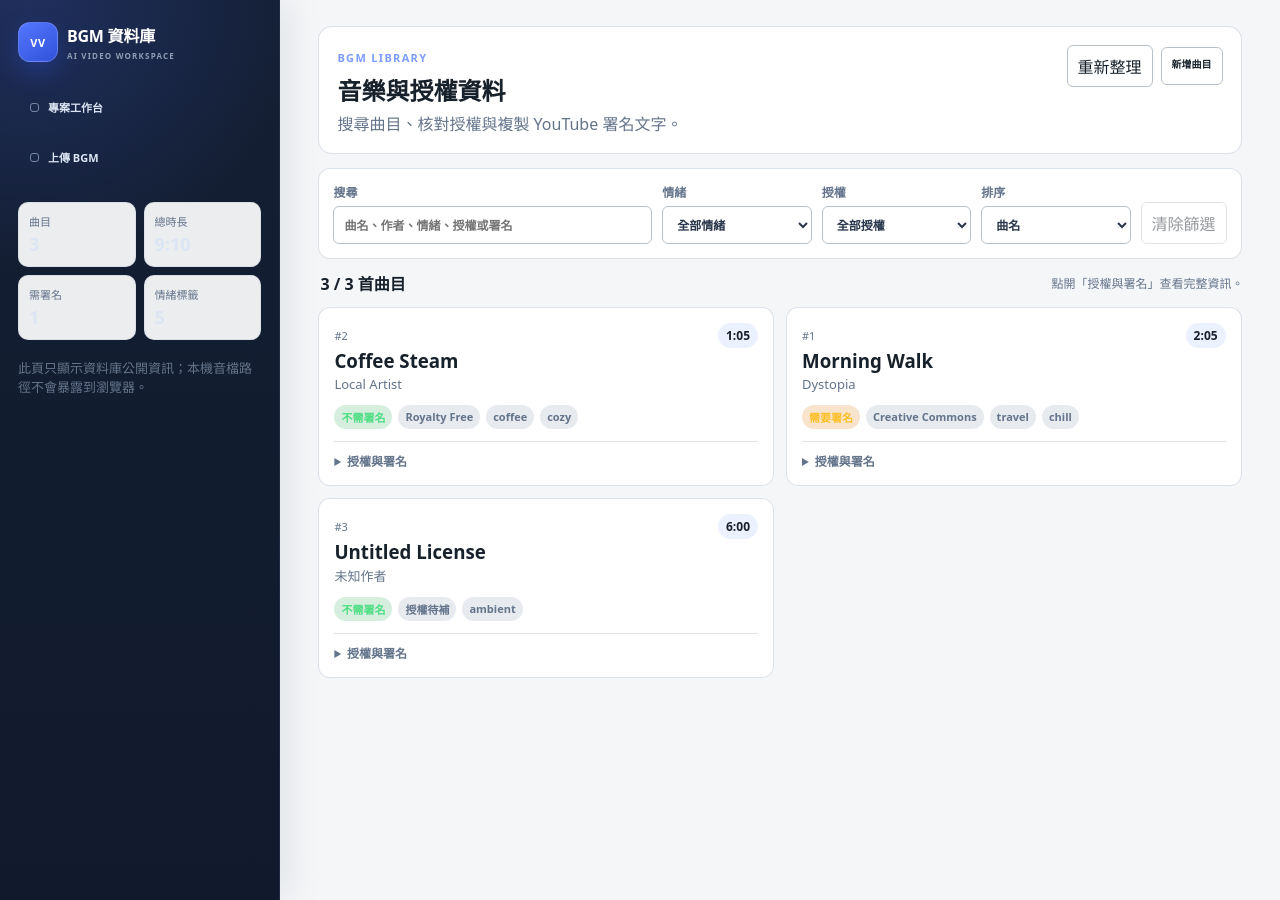
BgmLibraryPage › loads tracks and supports combined search and filters
Check: the heading "Morning Walk" is shown, box [802,348,933,373]
Check: the text "3 / 3 首曲目" is shown, box [320,271,406,295]
Type "coffee" into the search field named "搜尋 BGM" at (493, 225), box [333,206,652,244]
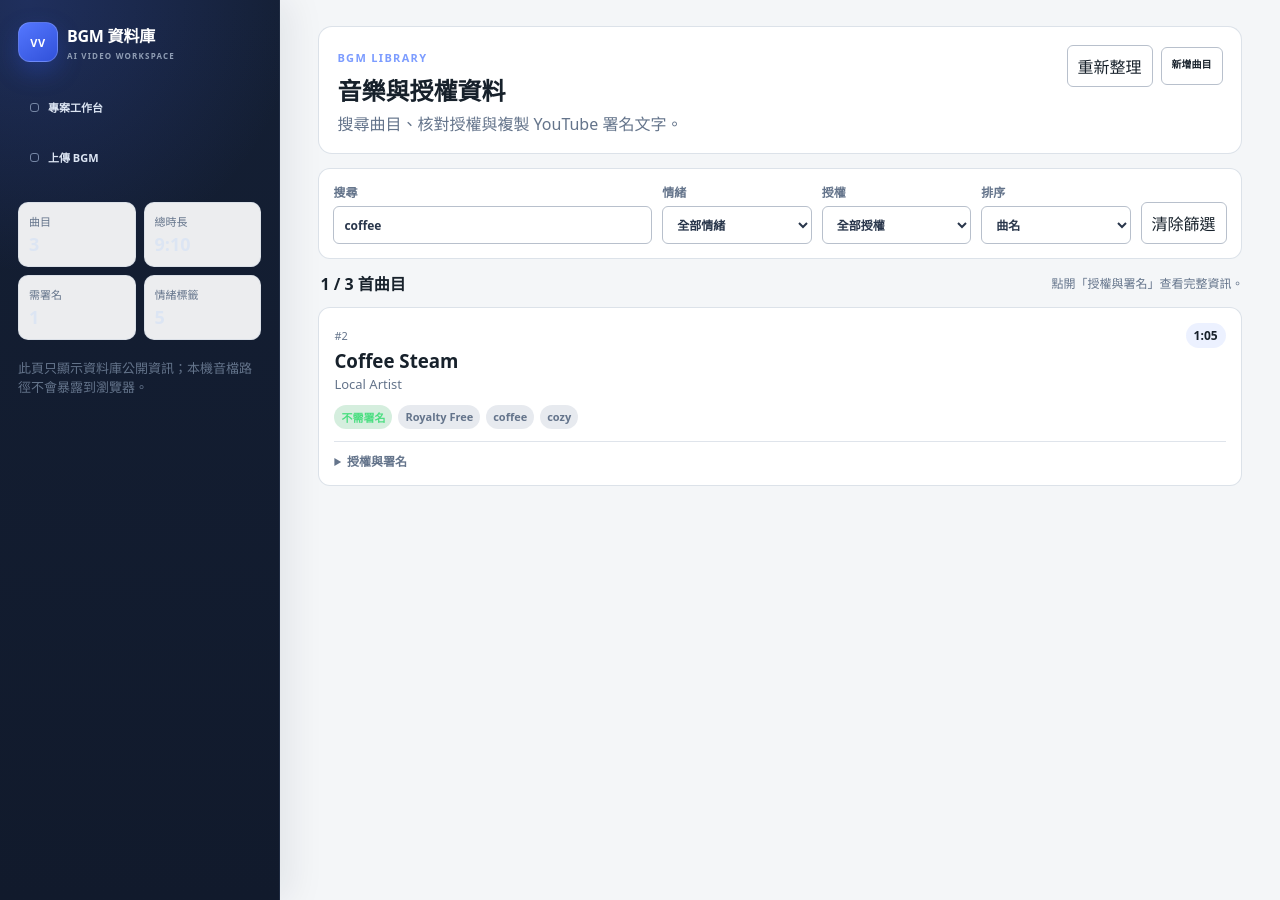
Check: the heading "Coffee Steam" is shown, box [334,348,458,373]
Check: the heading "Morning Walk" is gone
Click the button "清除篩選" at (1184, 223), box [1141,202,1227,244]
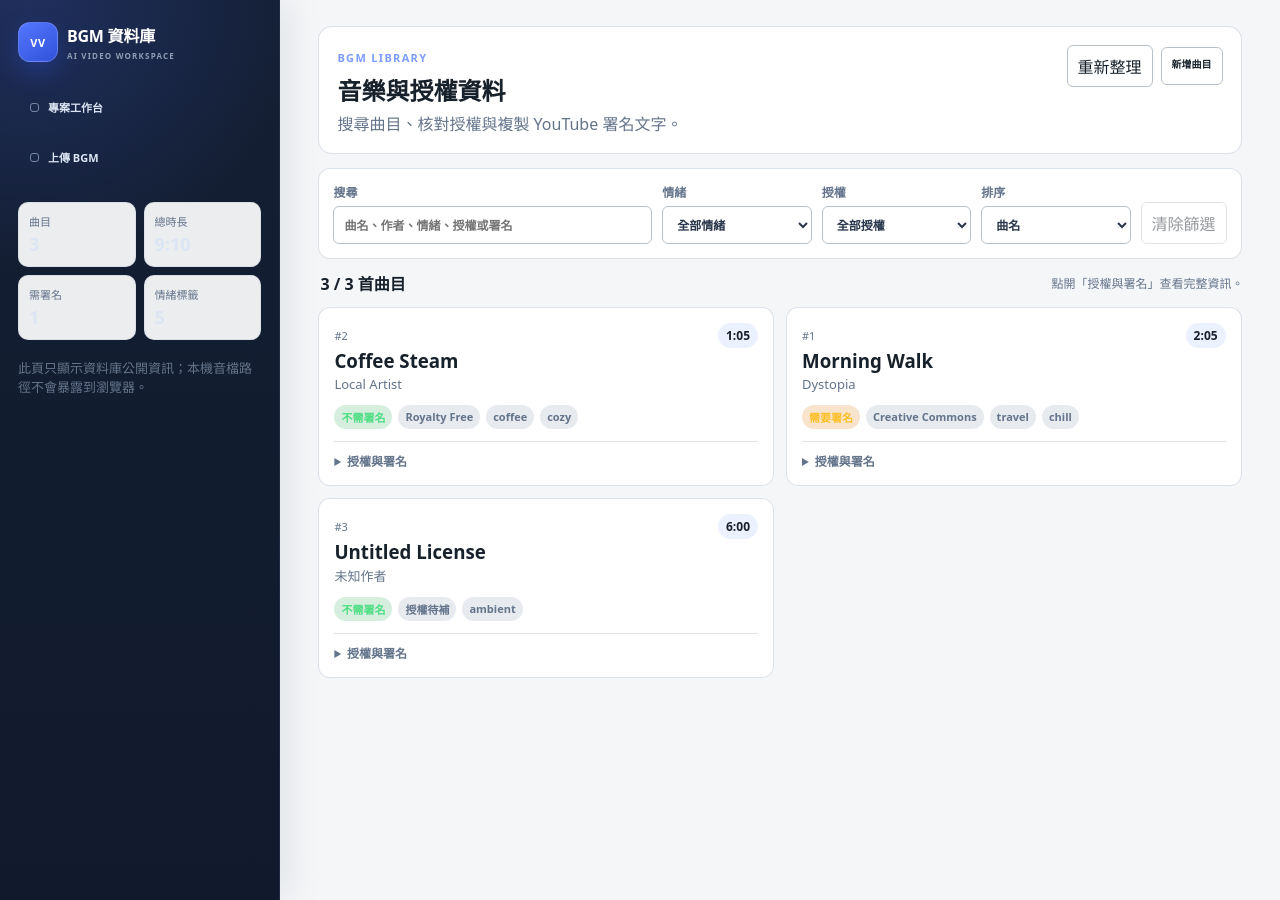
Select "chill" in the dropdown named "篩選 BGM 情緒" at (737, 225), box [662,206,812,244]
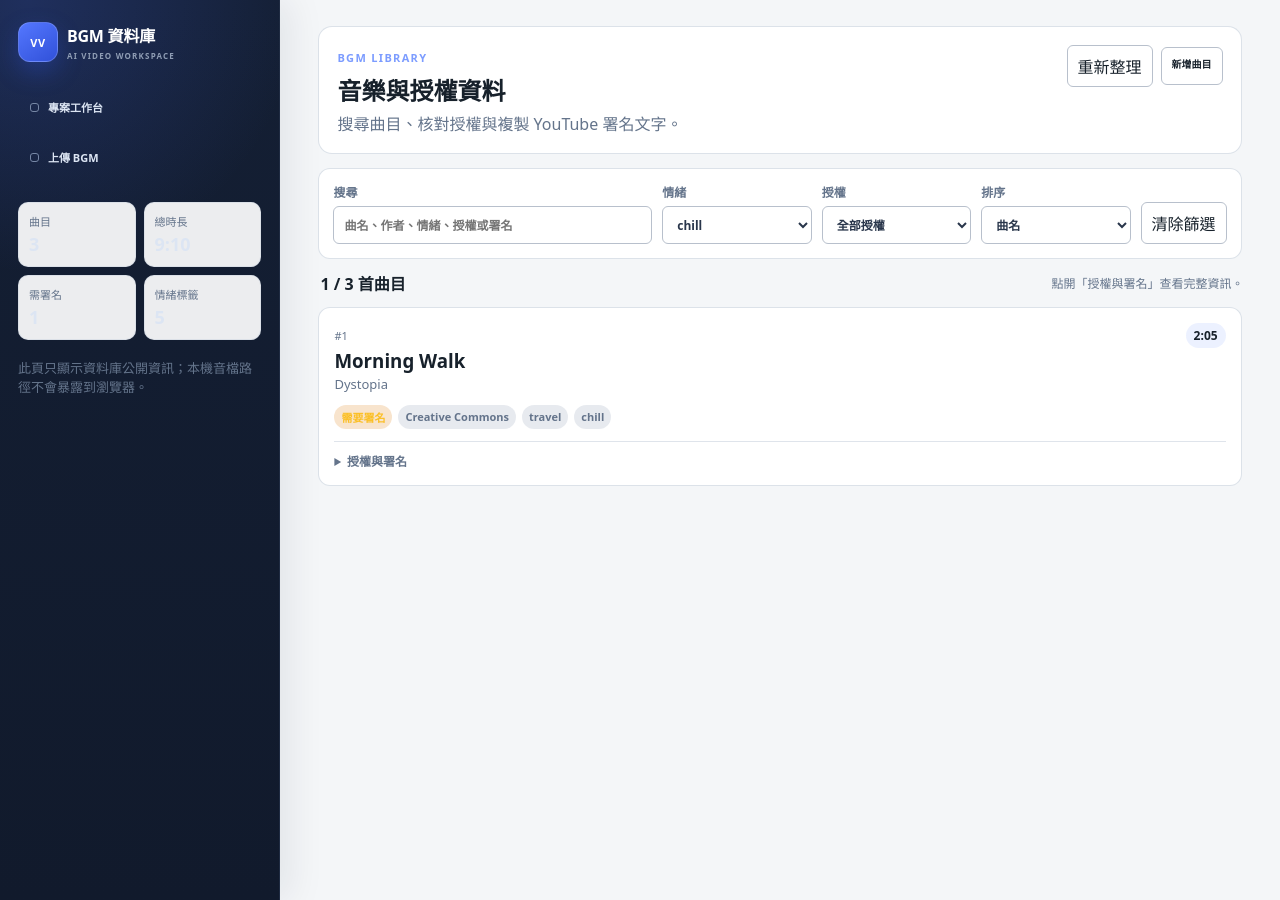
Check: the heading "Morning Walk" is shown, box [334,348,465,373]
Check: the heading "Coffee Steam" is gone
